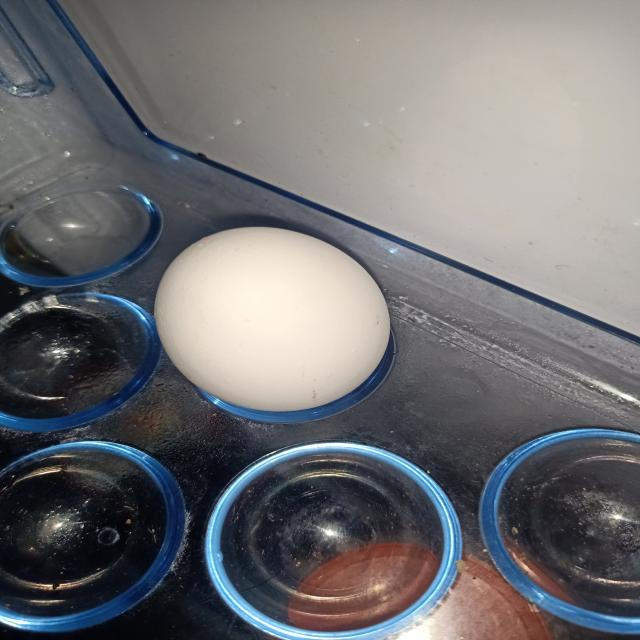Egg: (133, 213, 417, 422)
